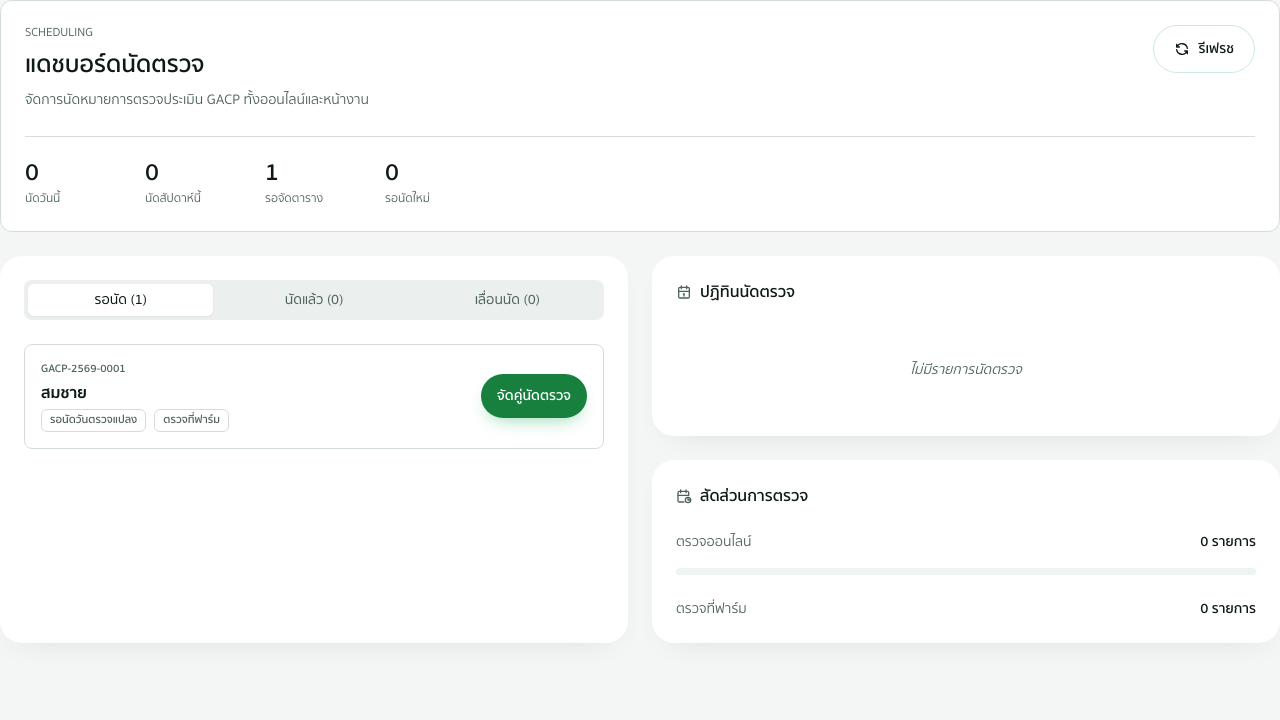
Test: the form defaults to a visit that can lead to a certificate › a new booking opens on the on-site fields (map link / place), not the meeting-link field
Step 1. Click the button "จัดคู่นัดตรวจ" → (534, 396), box [481,374,587,418]
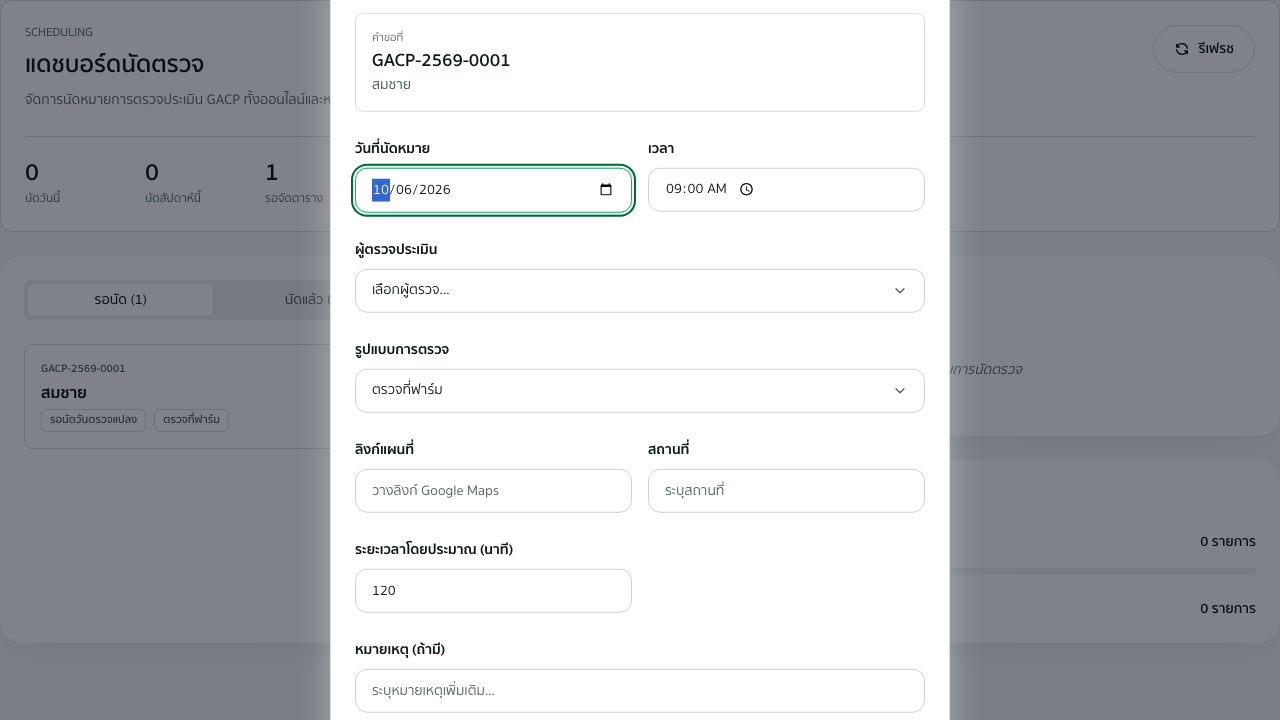
Now the text "ลิงก์แผนที่" is shown, box [355,438,414,460]
